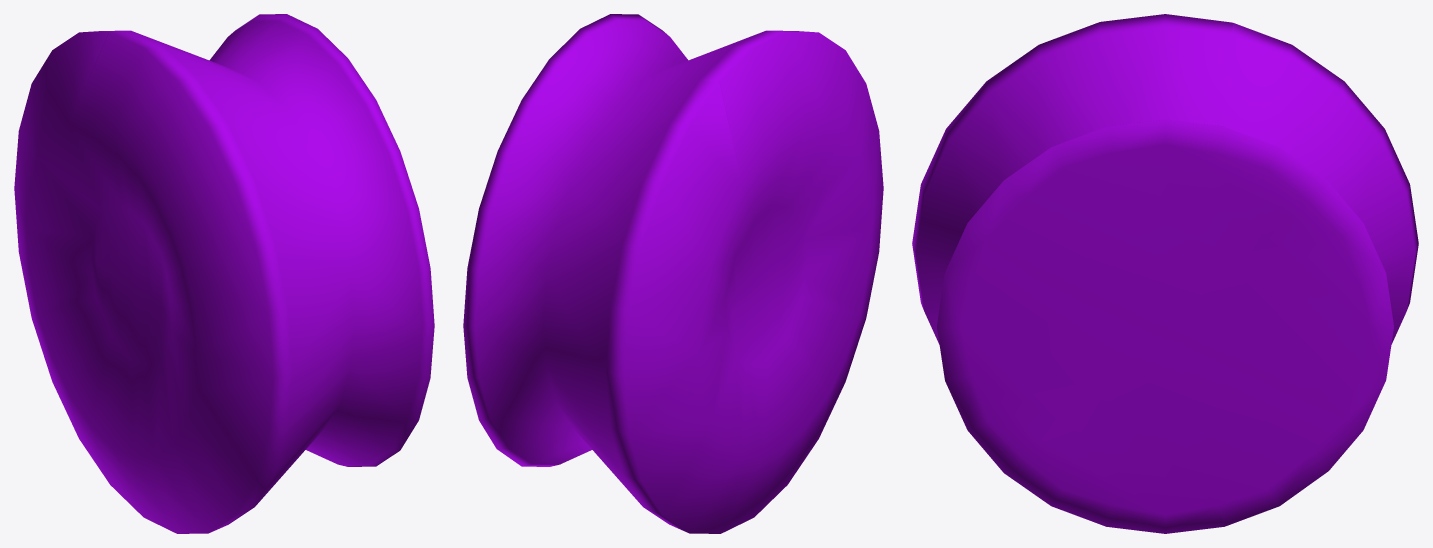
File: Door_02_IronWorks_D.fbx
3 views of the same model, side by side, from view 1: azimuth 30°, elevation 25°; view 2: azimuth 150°, elevation 25°; view 3: azimuth 270°, elevation 25° (orthographic). The views are drawn at different scales.
Visible parts, largest first — view 1: Door_02_IronWorks_D; view 2: Door_02_IronWorks_D; view 3: Door_02_IronWorks_D.
Part boxes in pixels (left/top/right/bottom): Door_02_IronWorks_D: left=14, top=14, right=434, bottom=533; Door_02_IronWorks_D: left=463, top=14, right=883, bottom=533; Door_02_IronWorks_D: left=912, top=14, right=1418, bottom=533.
Size of the model in its own units: 10.76 by 22.6 by 22.6.
